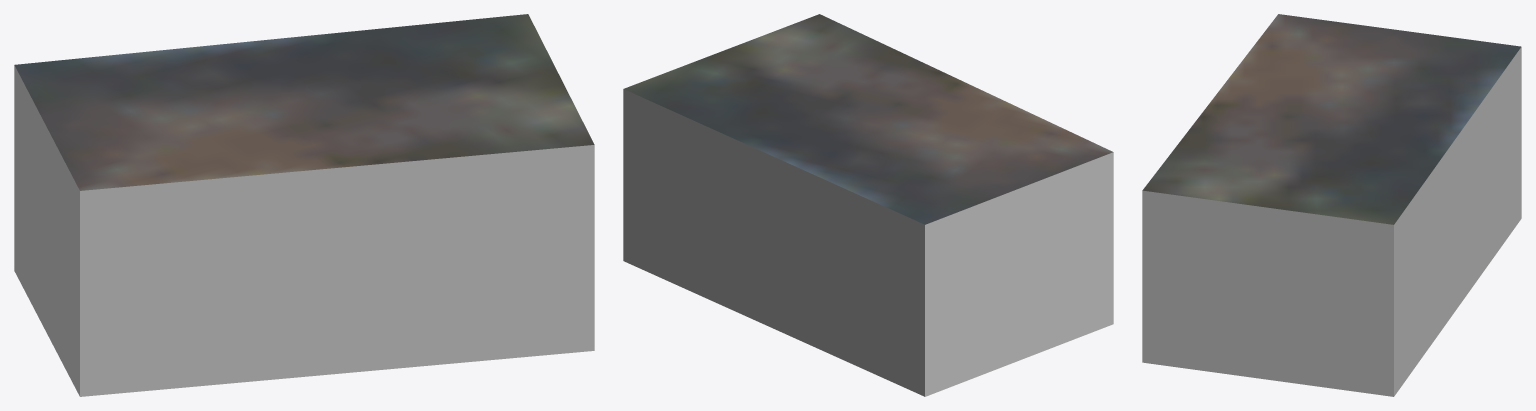
The model's file is DEBW_0010007Txcz.gltf.
3 views of the same model, side by side, from view 1: azimuth 30°, elevation 25°; view 2: azimuth 150°, elevation 25°; view 3: azimuth 270°, elevation 25° (orthographic). The views are drawn at different scales.
Parts seen in each view (by area): view 1: Z_UP; view 2: Z_UP; view 3: Z_UP.
Boxes of the visible parts, x1,y1,x2,y2 form: Z_UP: (14,14,594,396); Z_UP: (623,14,1113,396); Z_UP: (1142,14,1521,396).
Size of the model in its own units: 7.12 by 2.71 by 5.41.
2 materials, 1 textured.
